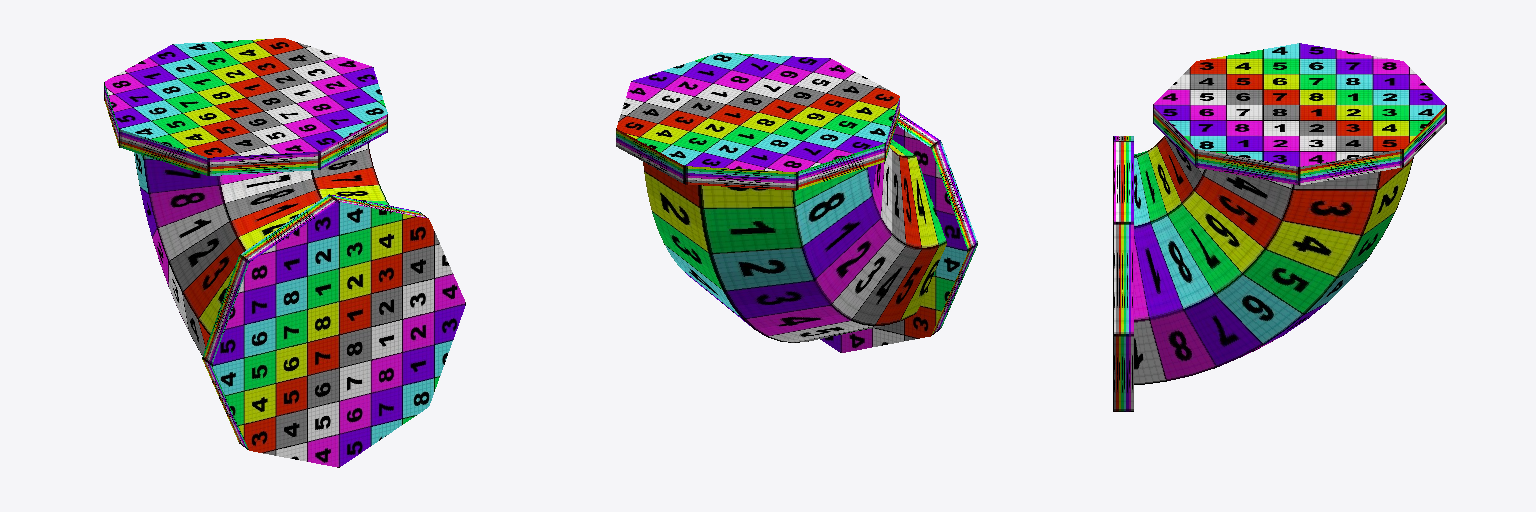
3 renders of one model, left to right at view 1: azimuth 30°, elevation 25°; view 2: azimuth 150°, elevation 25°; view 3: azimuth 270°, elevation 25°, orthographic.
Visible parts, largest first — view 1: pipe; view 2: pipe; view 3: pipe.
Boxes of the visible parts, x1,y1,x2,y2 form: pipe: [104, 38, 465, 467]; pipe: [616, 52, 977, 352]; pipe: [1113, 43, 1446, 411].
Bounding box in the file's own units: 0.144 × 0.1633 × 0.1633.
1 materials, 1 textured.